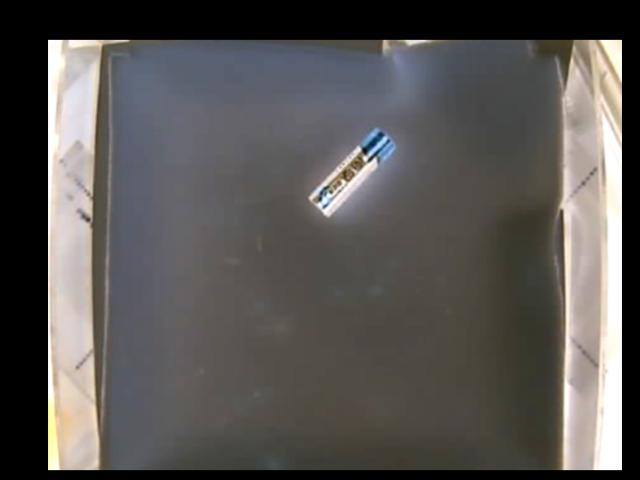Battery: (307, 126, 396, 217)
